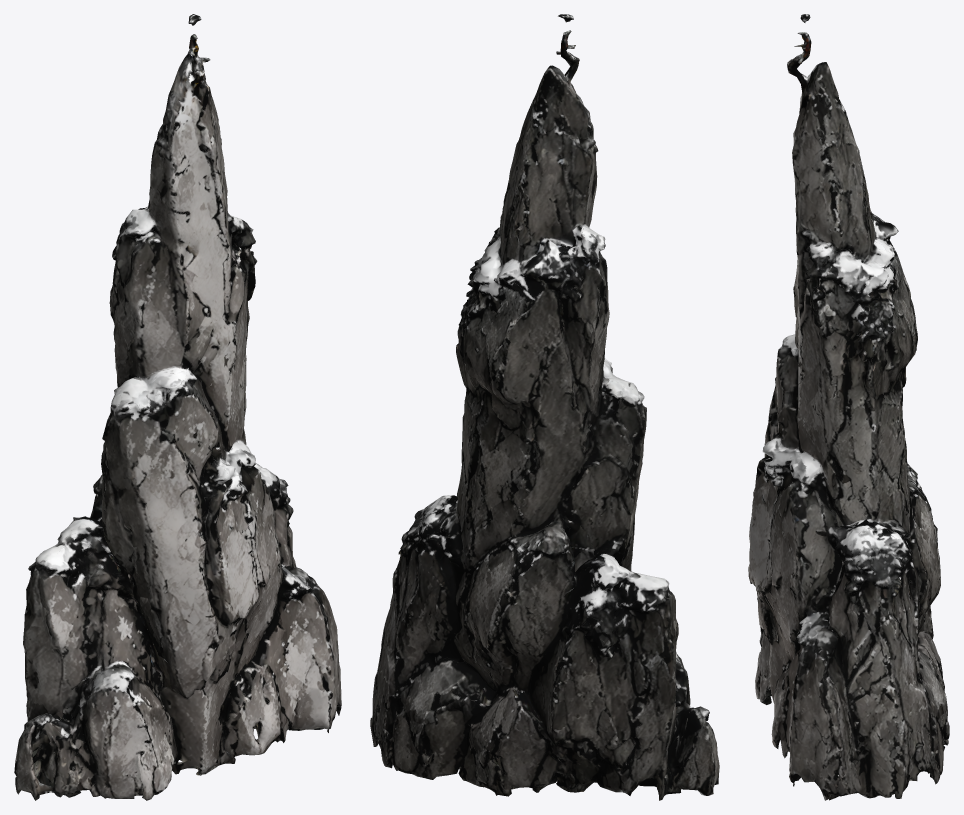
File: InkPart04_Needle.fbx
3 views of the same model, side by side, from view 1: azimuth 30°, elevation 25°; view 2: azimuth 150°, elevation 25°; view 3: azimuth 270°, elevation 25° (orthographic). The views are drawn at different scales.
Parts seen in each view (by area): view 1: texture_mapping; view 2: texture_mapping; view 3: texture_mapping.
Boxes of the visible parts, box(x1,y1,x2,y2) form: texture_mapping: box(14, 14, 341, 800); texture_mapping: box(370, 14, 719, 800); texture_mapping: box(748, 14, 949, 800).
Bounding box in the file's own units: 0.4497 × 0.2522 × 0.9942.
1 material, 1 textured.
